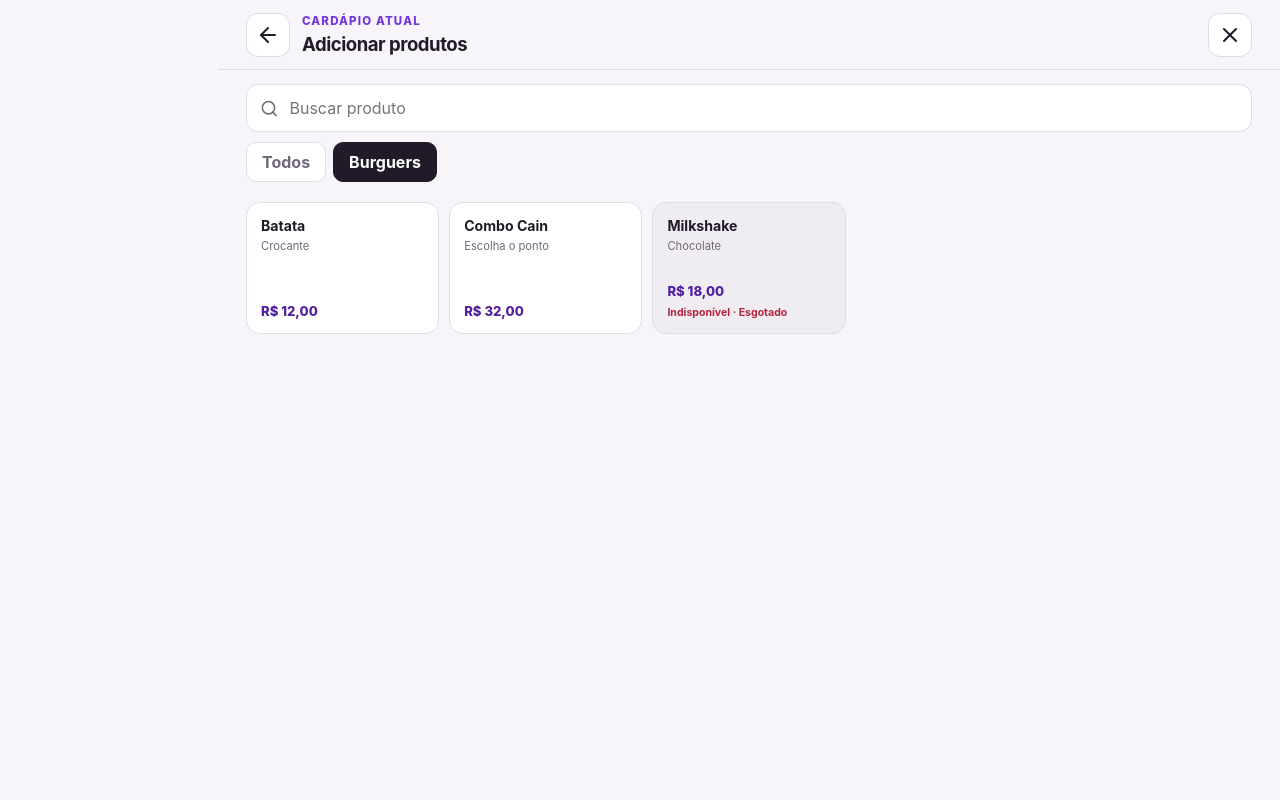
Test case: catálogo rápido › filtra produtos por busca sem alterar a fonte do cardápio
Type "batata" into the field with placeholder "Buscar produto". click: (763, 108)
box: [288,85,1238,131]
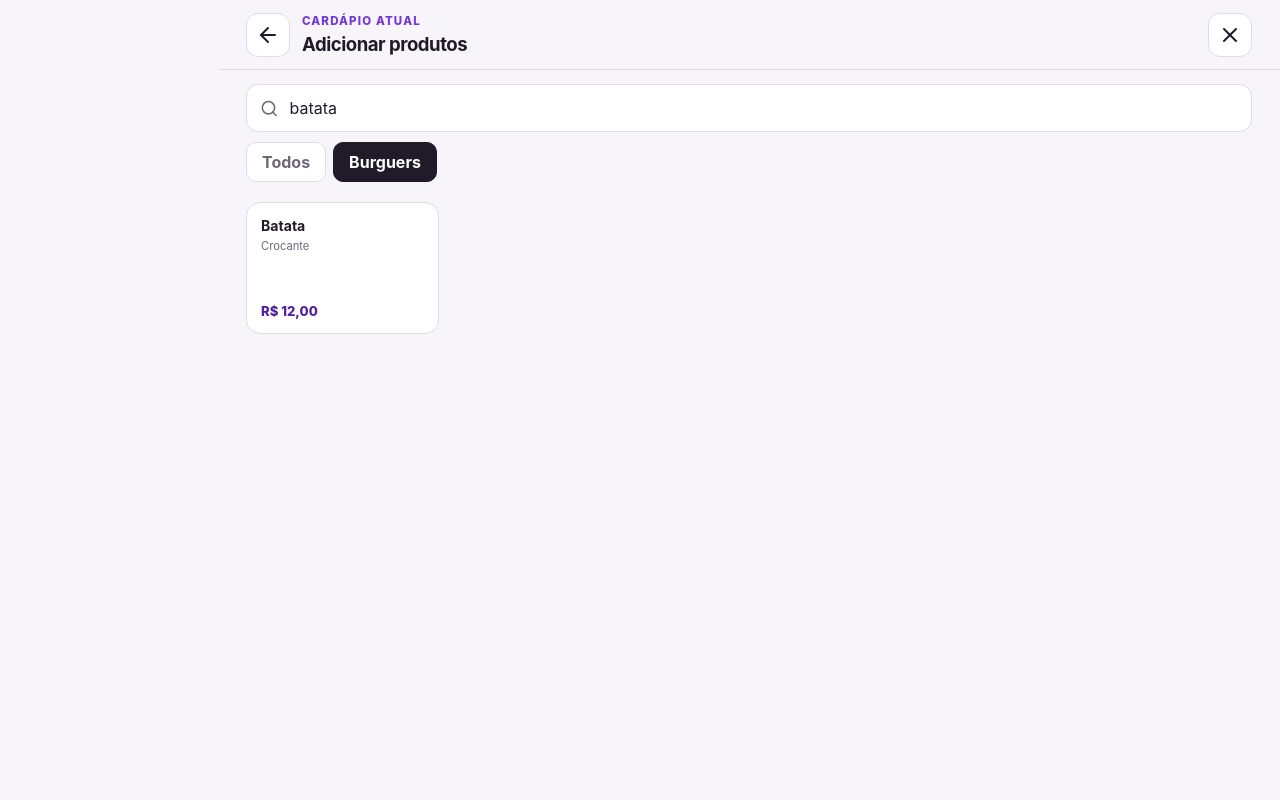
Expected: the button "Batata Crocante R$ 12,00" is shown, [246,202,439,334]
Result: the button "Combo Cain" is gone
